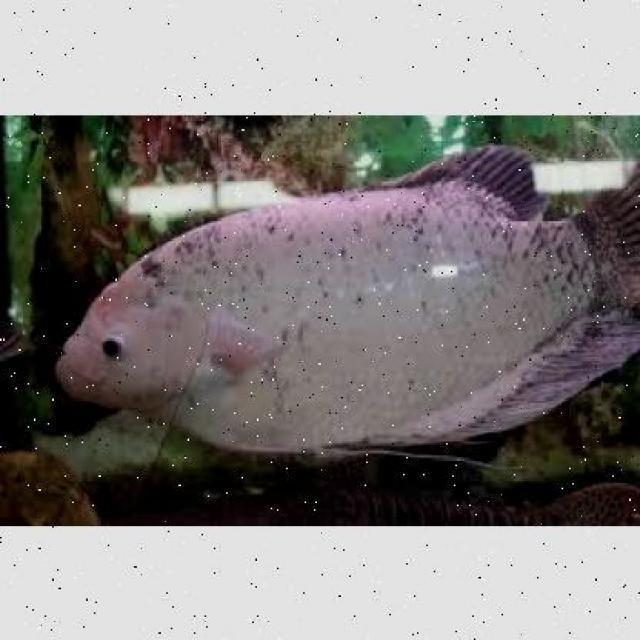gurame: (54, 143, 638, 448)
